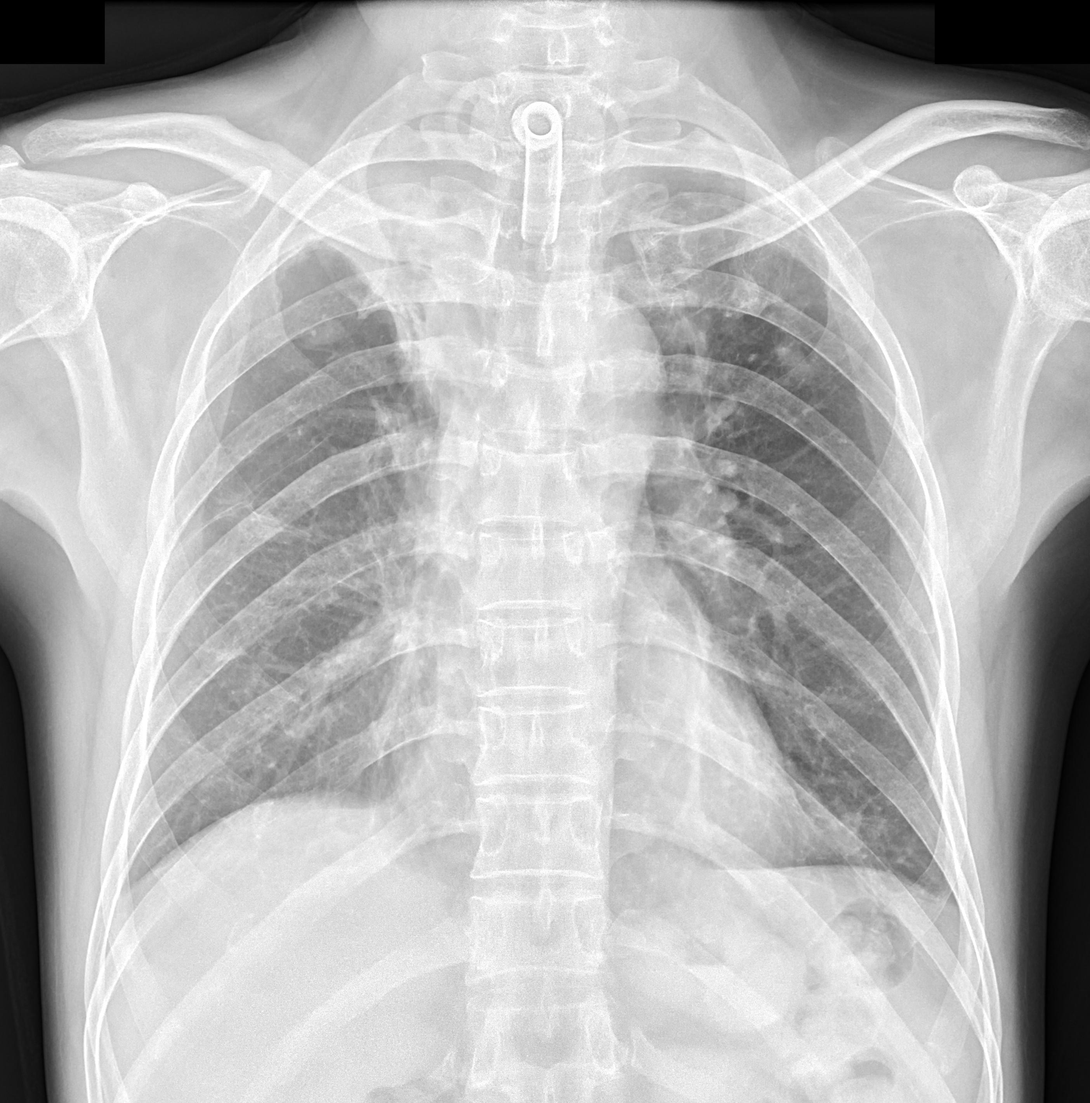Pleural thickening: (272, 117, 497, 397), (597, 123, 830, 241)
Pulmonary fibrosis: (162, 400, 424, 574), (675, 263, 839, 435), (674, 596, 729, 863)
